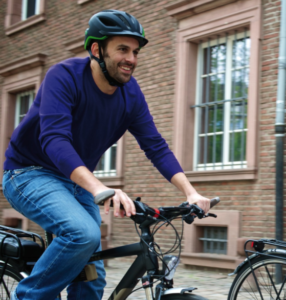helmet: (84, 7, 149, 42)
